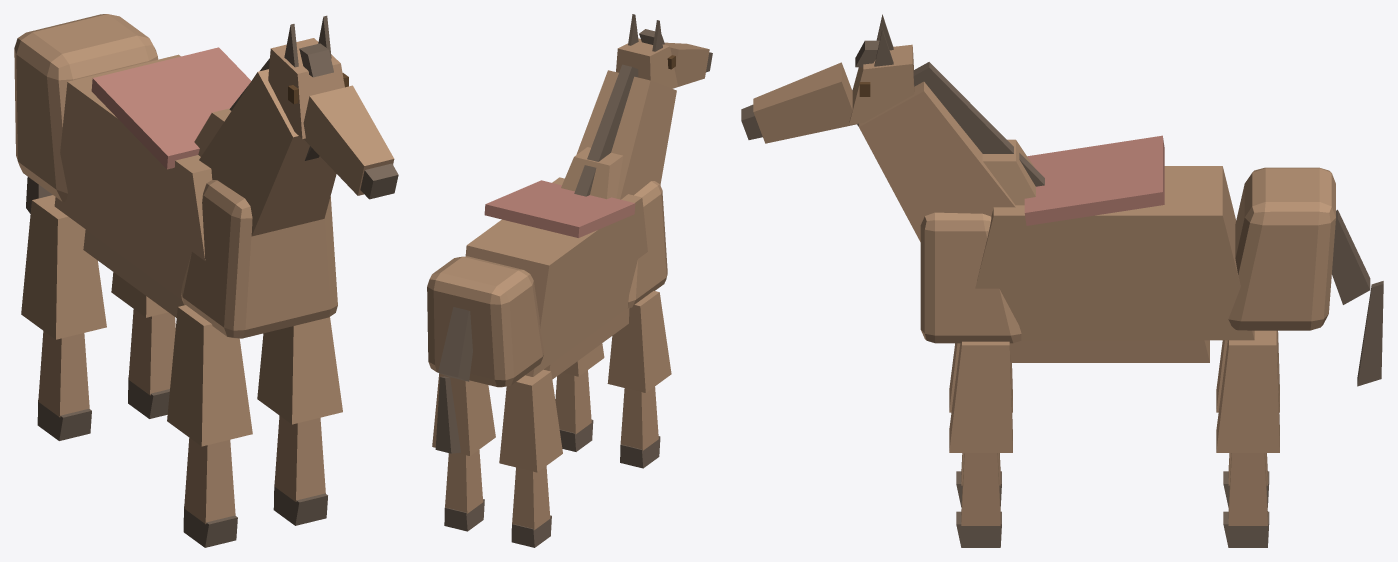
The model's file is horse.glb.
The picture shows the model from 3 angles, left to right: view 1: azimuth 30°, elevation 25°; view 2: azimuth 150°, elevation 25°; view 3: azimuth 270°, elevation 25°; orthographic projection. The views are drawn at different scales.
Parts seen in each view (by area): view 1: body, blanket, thighFL, thighRL, thighFR, muzzle, shinFL, shinRL, shinFR, shinRR, skull, hoofFL (+6 smaller); view 2: body, blanket, thighRL, thighFL, thighRR, mane, shinFL, shinRL, shinRR, shinFR, tail1, skull (+7 smaller); view 3: body, blanket, thighRR, thighFR, muzzle, skull, mane, shinRR, shinFR, tail1, tail2, hoofFR (+1 smaller).
Boxes of the visible parts, x1=… form: body: x1=14, y1=14, x2=337, y2=338; blanket: x1=91, y1=47, x2=251, y2=169; thighFL: x1=167, y1=305, x2=252, y2=446; thighRL: x1=21, y1=195, x2=106, y2=339; thighFR: x1=257, y1=317, x2=342, y2=424; muzzle: x1=303, y1=85, x2=394, y2=195; shinFL: x1=184, y1=438, x2=235, y2=523; shinRL: x1=38, y1=331, x2=89, y2=417; shinFR: x1=274, y1=415, x2=325, y2=501; shinRR: x1=128, y1=309, x2=175, y2=395; skull: x1=268, y1=38, x2=344, y2=138; hoofFL: x1=183, y1=506, x2=237, y2=547; body: x1=427, y1=70, x2=676, y2=387; blanket: x1=484, y1=180, x2=635, y2=237; thighRL: x1=499, y1=369, x2=562, y2=472; thighFL: x1=607, y1=291, x2=671, y2=392; thighRR: x1=432, y1=373, x2=495, y2=455; mane: x1=574, y1=64, x2=638, y2=196; shinFL: x1=620, y1=386, x2=658, y2=450; shinRL: x1=512, y1=466, x2=550, y2=530; shinRR: x1=445, y1=450, x2=483, y2=513; shinFR: x1=555, y1=370, x2=591, y2=434; tail1: x1=438, y1=307, x2=472, y2=381; skull: x1=616, y1=38, x2=677, y2=88; body: x1=859, y1=81, x2=1335, y2=362; blanket: x1=1024, y1=135, x2=1164, y2=225; thighRR: x1=1216, y1=330, x2=1279, y2=452; thighFR: x1=949, y1=341, x2=1012, y2=452; muzzle: x1=753, y1=62, x2=857, y2=143; skull: x1=849, y1=44, x2=914, y2=124; mane: x1=857, y1=62, x2=1044, y2=186; shinRR: x1=1228, y1=453, x2=1267, y2=525; shinFR: x1=961, y1=453, x2=1000, y2=525; tail1: x1=1332, y1=209, x2=1370, y2=304; tail2: x1=1357, y1=281, x2=1383, y2=386; hoofFR: x1=956, y1=511, x2=1001, y2=547.
Bounding box in the file's own units: 0.47 × 1.73 × 2.02.
